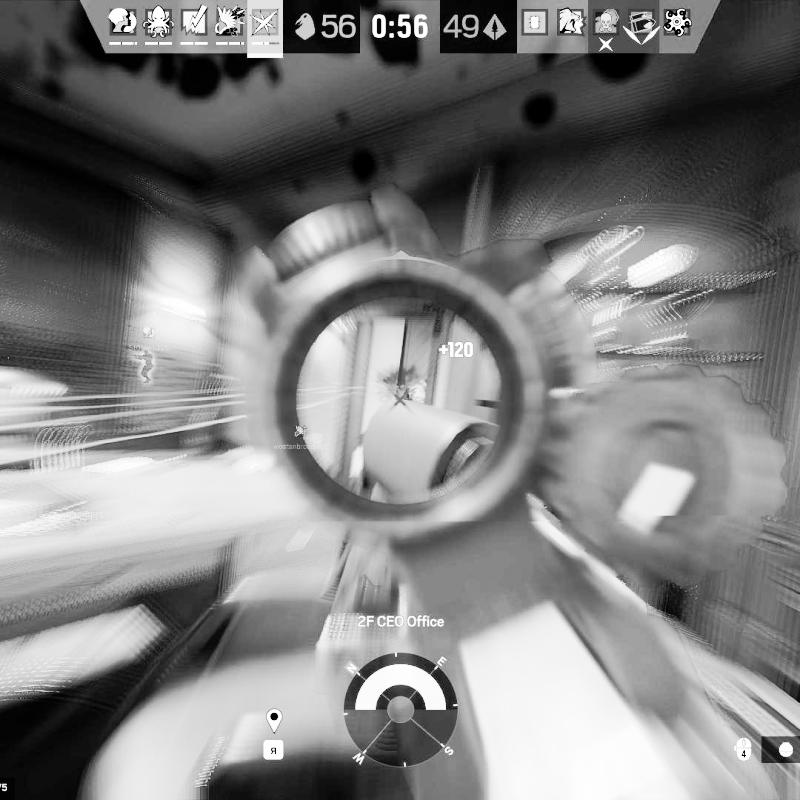Character: (386, 376, 430, 401)
Friend_label: (273, 422, 326, 450), (127, 325, 170, 352)
